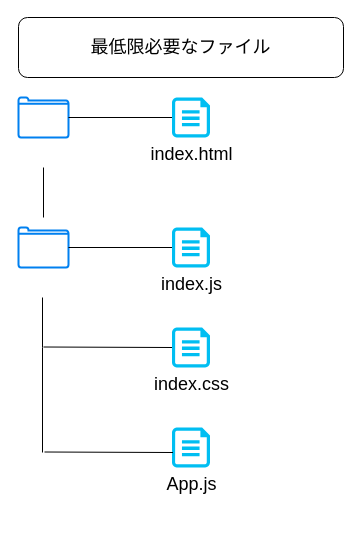
This 361x535 diagram has some shape labels left out. Each missing label, with the centre of its shape:
public: the point at 43,117
src: the point at 43,247
